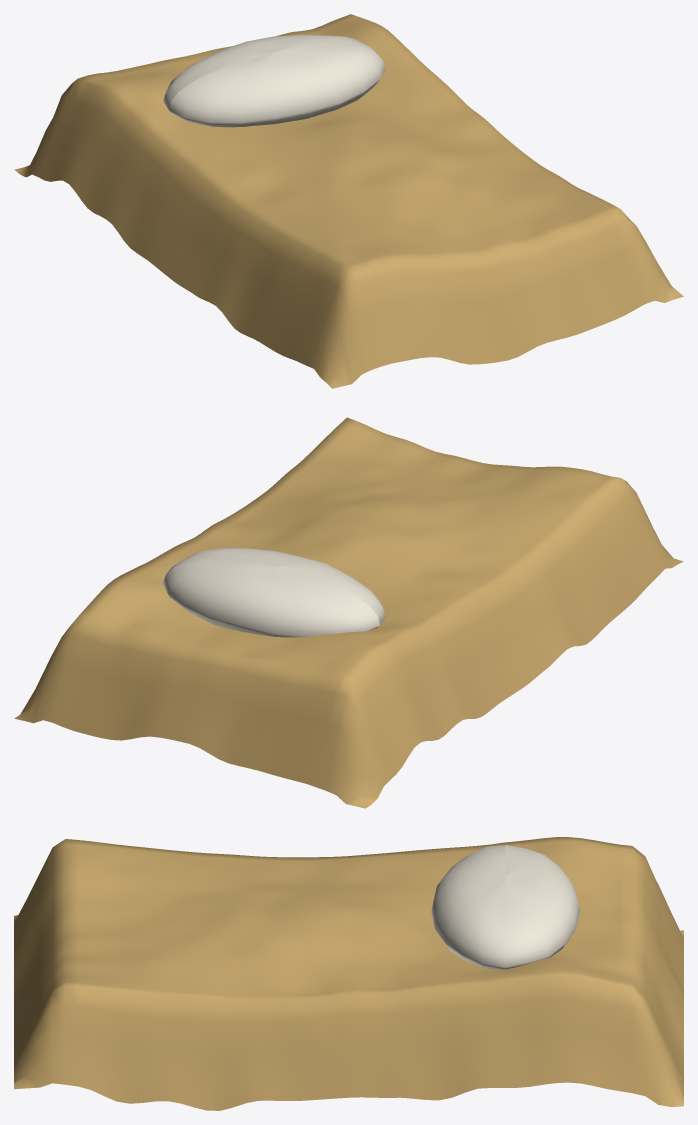
Rendered from alli-bedding.glb.
3 renders of one model, top to bottom at view 1: azimuth 30°, elevation 25°; view 2: azimuth 150°, elevation 25°; view 3: azimuth 270°, elevation 25°, orthographic. The views are drawn at different scales.
Parts seen in each view (by area): view 1: comforter, pillow; view 2: comforter, pillow; view 3: comforter, pillow.
Part boxes in pixels (box(x1,y1,x2,y2)): comforter: box(14, 14, 683, 388); pillow: box(163, 34, 385, 127); comforter: box(14, 417, 683, 808); pillow: box(163, 548, 385, 637); comforter: box(14, 837, 683, 1110); pillow: box(431, 845, 579, 969).
Bounding box in the file's own units: 1.58 × 0.5899 × 2.48.
